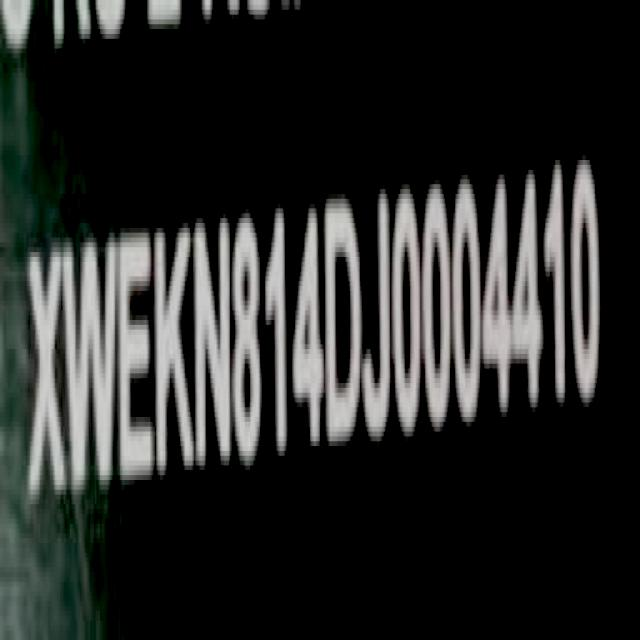0: (422, 180, 453, 440), (395, 190, 425, 443), (454, 171, 483, 432), (571, 154, 599, 408)
1: (266, 209, 291, 470), (546, 152, 569, 422)
4: (294, 204, 326, 464), (513, 161, 543, 422), (482, 170, 512, 428)
8: (232, 211, 261, 477)
D: (326, 192, 362, 457)
E: (119, 226, 159, 494)
J: (364, 184, 392, 449)
K: (153, 226, 192, 474)
N: (194, 210, 234, 480)
W: (67, 226, 120, 502)
X: (29, 240, 68, 518)
